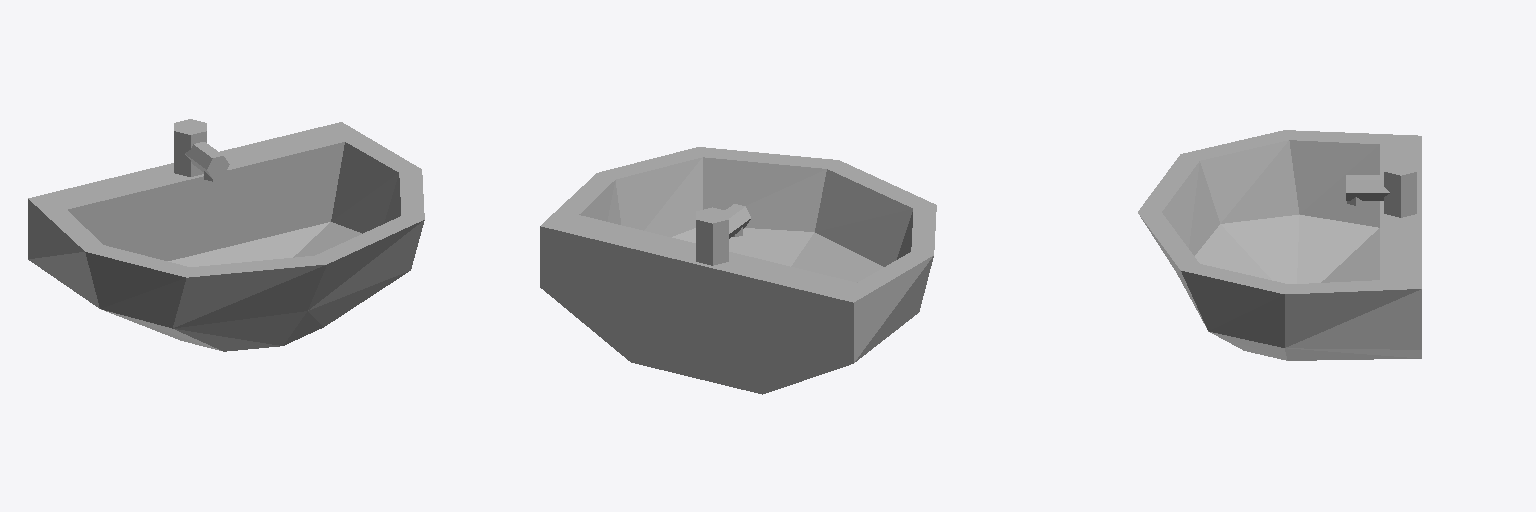
File: kezmoso.obj
3 views of the same model, side by side, from view 1: azimuth 30°, elevation 25°; view 2: azimuth 150°, elevation 25°; view 3: azimuth 270°, elevation 25° (orthographic).
Parts seen in each view (by area): view 1: kezmoso; view 2: kezmoso; view 3: kezmoso.
Boxes of the visible parts, x1=… form: kezmoso: x1=28, y1=119, x2=424, y2=351; kezmoso: x1=540, y1=147, x2=936, y2=394; kezmoso: x1=1138, y1=130, x2=1421, y2=360.
Size of the model in its own units: 65.41 by 31.87 by 47.89.